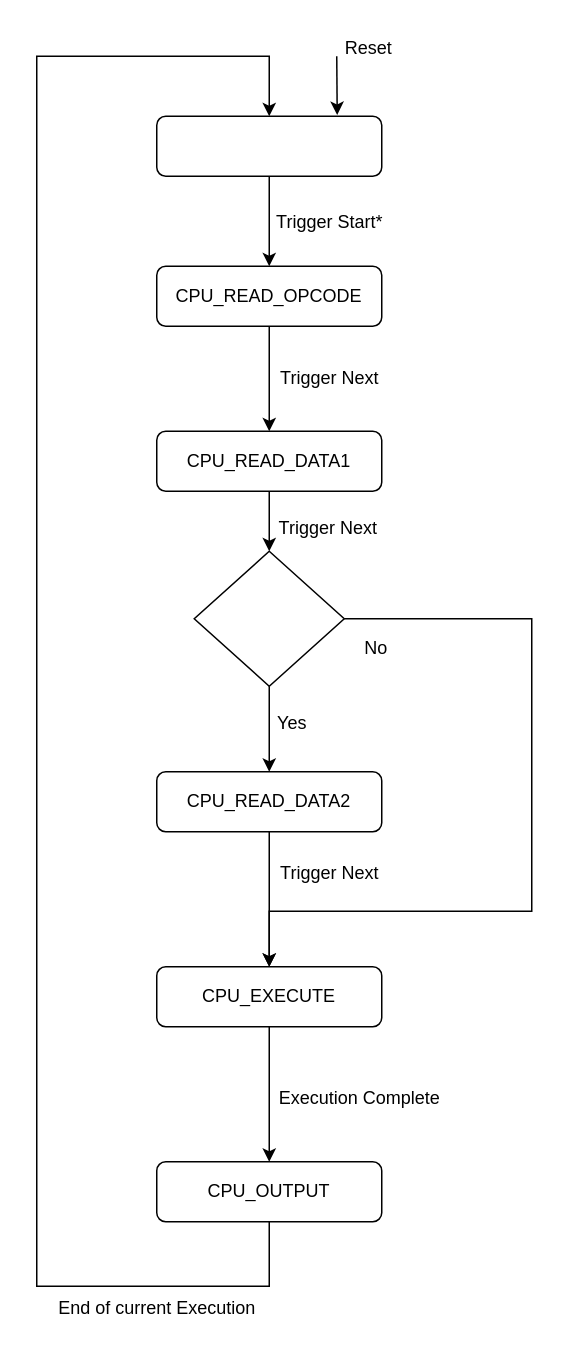
The diagram is 570 pixels wide and 1356 high, and some of its shapes have lost their labels. Here are the shapes that lost their labels. From the top down, the centre of each, then its label:
(x=268, y=145): CPU_IDLE
(x=268, y=618): Is Two Operands Required
